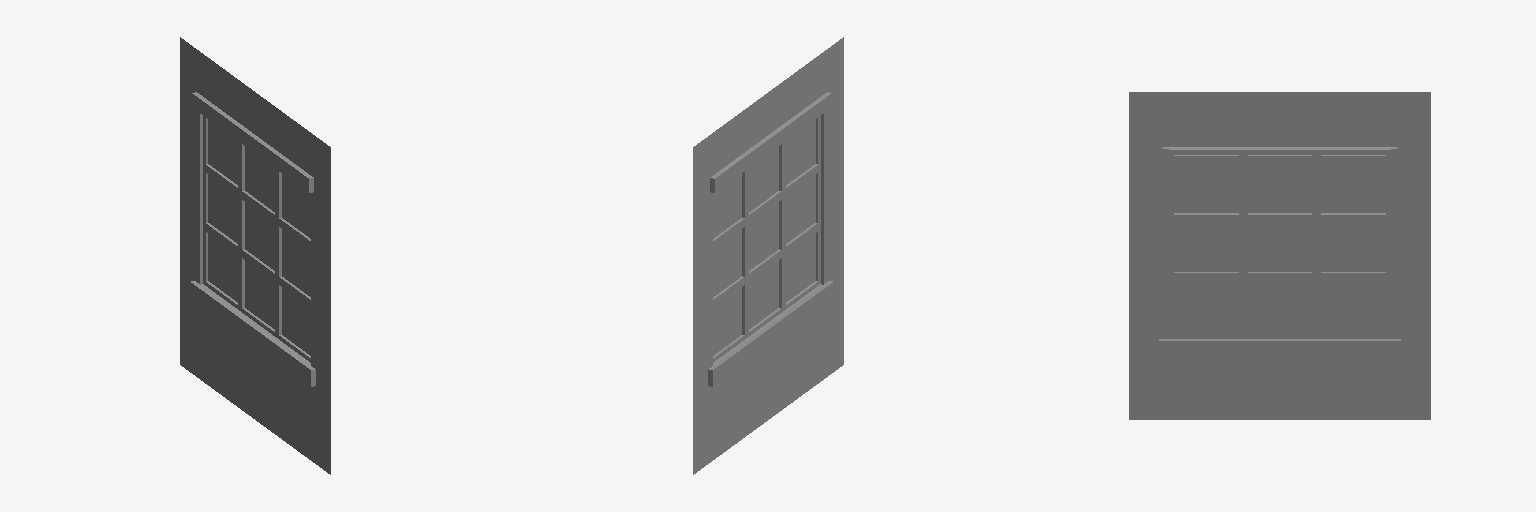
The model's file is Window5.obj.
3 renders of one model, left to right at view 1: azimuth 30°, elevation 25°; view 2: azimuth 150°, elevation 25°; view 3: azimuth 270°, elevation 25°, orthographic.
Parts seen in each view (by area): view 1: Window5; view 2: Window5; view 3: Window5.
Boxes of the visible parts, x1,y1,x2,y2 form: Window5: [180, 37, 330, 474]; Window5: [693, 37, 843, 474]; Window5: [1129, 92, 1430, 419].
Size of the model in its own units: 0.1006 by 3 by 2.5.